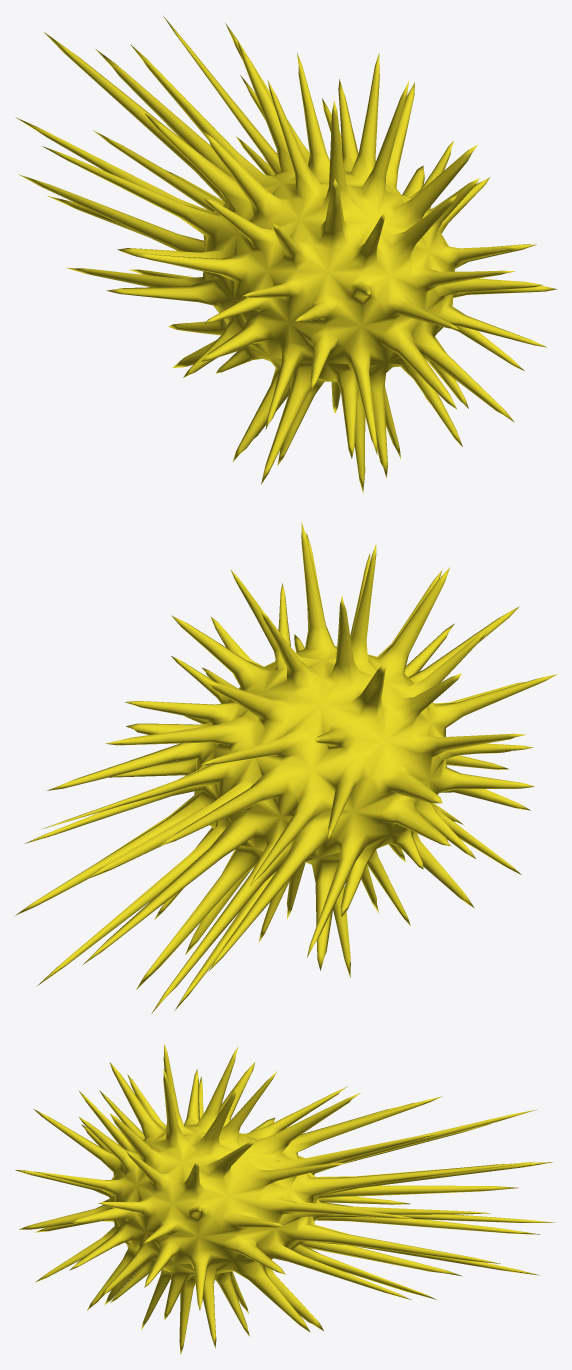
File: NK_Cell.fbx
The picture shows the model from 3 angles, top to bottom: view 1: azimuth 30°, elevation 25°; view 2: azimuth 150°, elevation 25°; view 3: azimuth 270°, elevation 25°; orthographic projection. The views are drawn at different scales.
Visible parts, largest first — view 1: NK_Cell; view 2: NK_Cell; view 3: NK_Cell.
Part boxes in pixels (box(x1,y1,x2,y2)): NK_Cell: box(15, 16, 557, 493); NK_Cell: box(15, 522, 557, 1013); NK_Cell: box(15, 1044, 555, 1354).
Size of the model in its own units: 1.74 by 1.67 by 2.87.
